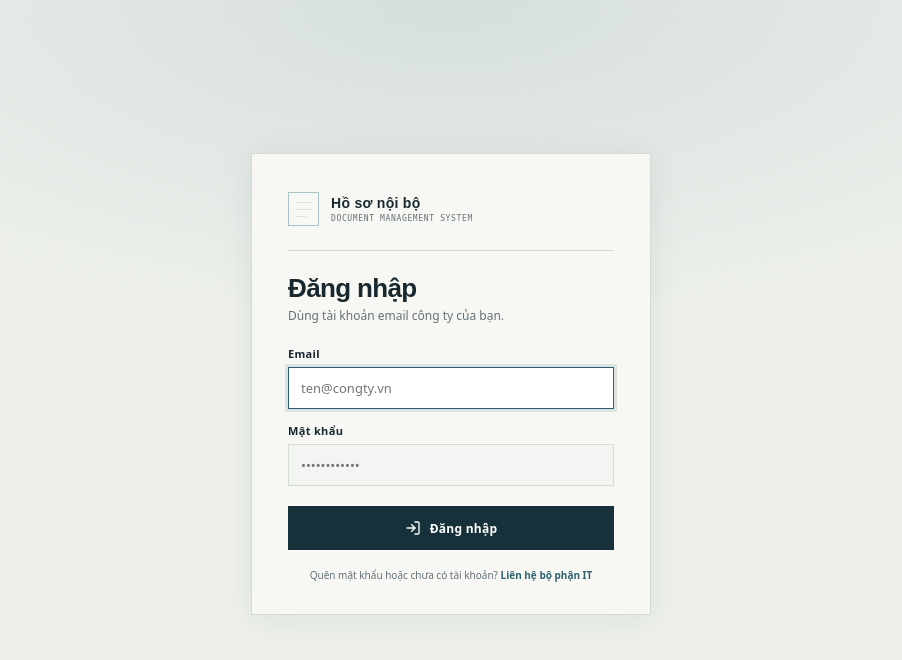
Test case: LoginPage › hiển thị thông báo lỗi khi login thất bại
This screenshot has width=902, height=660.
Type "user@test.vn" into the field labelled "Email" at x=451, y=388, box [288,367,614,409]
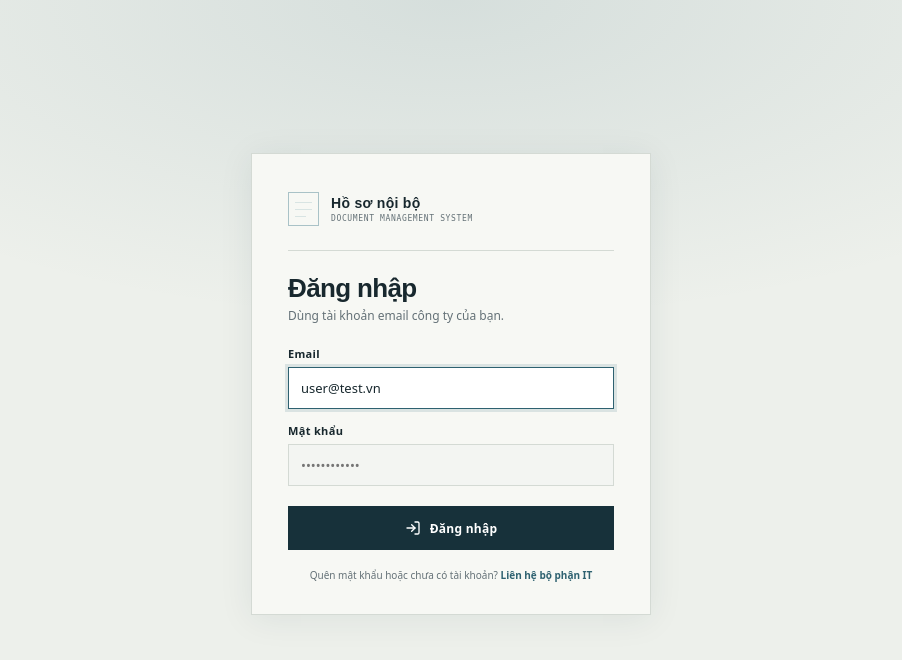
Type "WrongPass1!" into the password field labelled "Mật khẩu" at x=451, y=465, box [288,444,614,486]
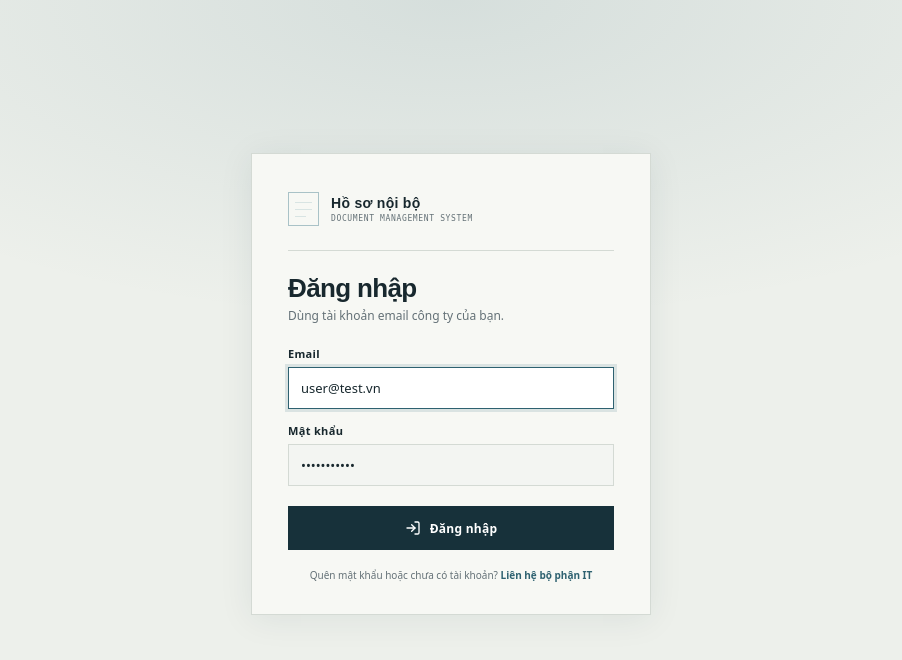
Click the button "Đăng nhập" at x=451, y=528, box [288,506,614,550]
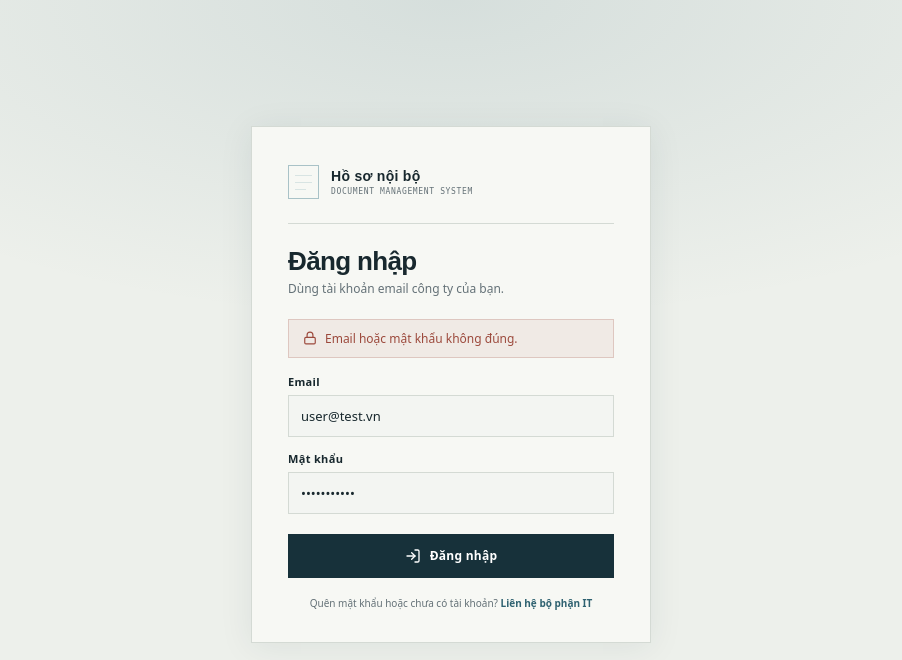
Expected: the message reads "Email hoặc mật khẩu không đúng.", [325,330,518,346]
